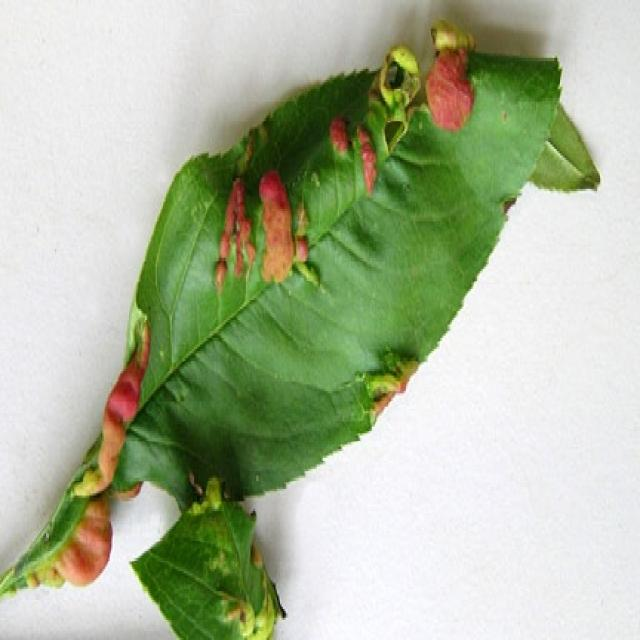peach_leaf_curl: (0, 13, 600, 638)
